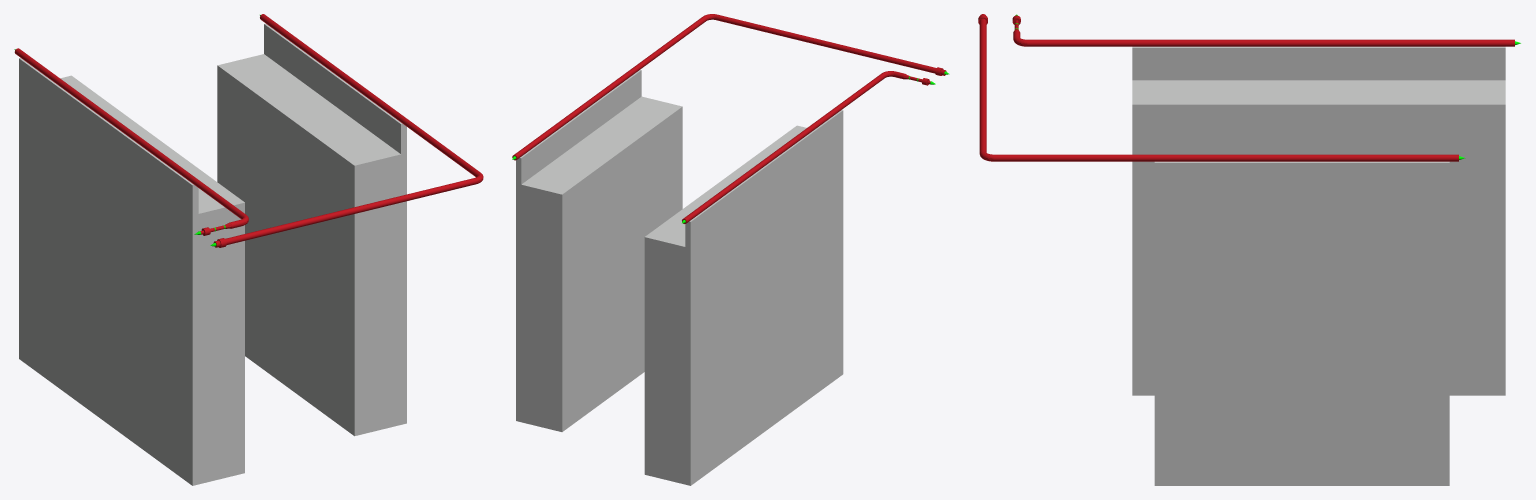
Rendered from Phase30a.fbx.
3 views of the same model, side by side, from view 1: azimuth 30°, elevation 25°; view 2: azimuth 150°, elevation 25°; view 3: azimuth 270°, elevation 25° (orthographic). The views are drawn at different scales.
Parts seen in each view (by area): view 1: Батарея:Батарея:1570395, Батарея:Батарея:1572179, Типы трубопроводов:CPS_Бесшовная труба из нс:1561133, Типы трубопроводов:CPS_Бесшовная труба из нс:1553669, Типы трубопроводов:CPS_Бесшовная труба из нс:1551410; view 2: Батарея:Батарея:1570395, Батарея:Батарея:1572179, Типы трубопроводов:CPS_Бесшовная труба из нс:1561133, Типы трубопроводов:CPS_Бесшовная труба из нс:1553669, Типы трубопроводов:CPS_Бесшовная труба из нс:1551410; view 3: Батарея:Батарея:1572179, Батарея:Батарея:1570395, Типы трубопроводов:CPS_Бесшовная труба из нс:1561133, Типы трубопроводов:CPS_Бесшовная труба из нс:1553669, Типы трубопроводов:CPS_Бесшовная труба из нс:1551410.
Part boxes in pixels (x1,y1,x2,y2): Батарея:Батарея:1570395: (19, 58, 244, 485); Батарея:Батарея:1572179: (217, 23, 406, 436); Типы трубопроводов:CPS_Бесшовная труба из нс:1561133: (14, 48, 245, 218); Типы трубопроводов:CPS_Бесшовная труба из нс:1553669: (260, 14, 479, 176); Типы трубопроводов:CPS_Бесшовная труба из нс:1551410: (230, 178, 476, 243); Батарея:Батарея:1570395: (644, 110, 843, 485); Батарея:Батарея:1572179: (516, 70, 682, 431); Типы трубопроводов:CPS_Бесшовная труба из нс:1561133: (682, 73, 885, 223); Типы трубопроводов:CPS_Бесшовная труба из нс:1553669: (512, 16, 707, 160); Типы трубопроводов:CPS_Бесшовная труба из нс:1551410: (715, 14, 931, 72); Батарея:Батарея:1572179: (1154, 161, 1449, 485); Батарея:Батарея:1570395: (1132, 46, 1505, 395); Типы трубопроводов:CPS_Бесшовная труба из нс:1561133: (1027, 39, 1514, 46); Типы трубопроводов:CPS_Бесшовная труба из нс:1553669: (993, 154, 1458, 161); Типы трубопроводов:CPS_Бесшовная труба из нс:1551410: (979, 22, 986, 152).
Size of the model in its own units: 1844 by 2913 by 1956.
